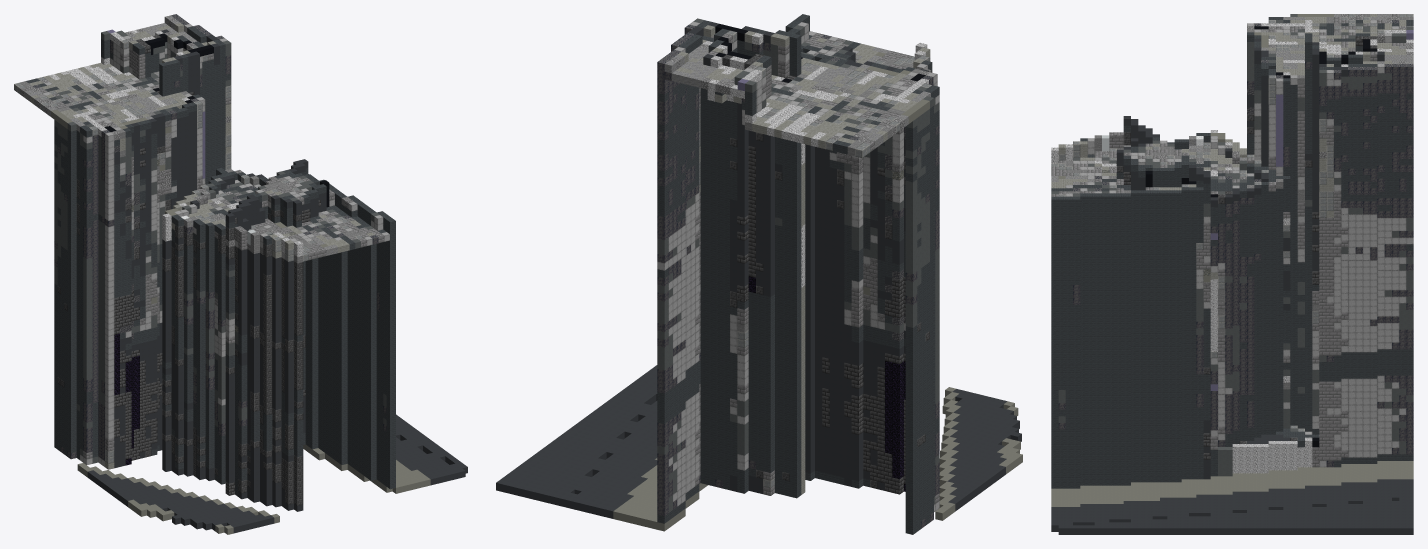
File: tile_0_0.glb
3 views of the same model, side by side, from view 1: azimuth 30°, elevation 25°; view 2: azimuth 150°, elevation 25°; view 3: azimuth 270°, elevation 25° (orthographic). The views are drawn at different scales.
Visible parts, largest first — view 1: minecraft:gray_wool:west, minecraft:gray_wool:south, minecraft:gray_concrete:south, minecraft:gray_concrete:west, minecraft:gray_concrete:up, minecraft:polished_deepslate:south, minecraft:polished_deepslate:west, minecraft:cyan_terracotta:west, minecraft:smooth_stone:south, minecraft:cyan_terracotta:south, minecraft:deepslate_bricks:south, minecraft:basalt:south (+20 smaller); view 2: minecraft:gray_wool:north, minecraft:gray_concrete:north, minecraft:gray_concrete:up, minecraft:gray_wool:west, minecraft:smooth_stone:west, minecraft:deepslate_bricks:north, minecraft:cyan_terracotta:west, minecraft:basalt:west, minecraft:gray_concrete:west, minecraft:cyan_terracotta:north, minecraft:light_gray_wool:up, minecraft:light_gray_concrete:up (+22 smaller); view 3: minecraft:gray_wool:east, minecraft:smooth_stone:east, minecraft:basalt:east, minecraft:gray_concrete:up, minecraft:gray_concrete:east, minecraft:stone_bricks:east, minecraft:light_gray_concrete:up, minecraft:cyan_terracotta:east, minecraft:gray_wool:up, minecraft:light_gray_wool:up, minecraft:diorite:east, minecraft:stone_bricks:up (+15 smaller).
Boxes of the visible parts, x1,y1,x2,y2 form: minecraft:gray_wool:west: (54,28,389,496); minecraft:gray_wool:south: (71,36,395,489); minecraft:gray_concrete:south: (114,46,467,533); minecraft:gray_concrete:west: (87,36,454,530); minecraft:gray_concrete:up: (88,29,467,527); minecraft:polished_deepslate:south: (125,146,305,505); minecraft:polished_deepslate:west: (57,179,297,505); minecraft:cyan_terracotta:west: (54,32,386,456); minecraft:smooth_stone:south: (86,48,389,464); minecraft:cyan_terracotta:south: (71,33,360,463); minecraft:deepslate_bricks:south: (114,46,320,495); minecraft:basalt:south: (71,55,378,459); minecraft:gray_wool:north: (657,26,912,534); minecraft:gray_concrete:north: (496,34,1017,518); minecraft:gray_concrete:up: (496,22,1021,511); minecraft:gray_wool:west: (664,16,939,534); minecraft:smooth_stone:west: (664,24,939,511); minecraft:deepslate_bricks:north: (737,146,905,494); minecraft:cyan_terracotta:west: (664,27,939,512); minecraft:basalt:west: (664,42,939,528); minecraft:gray_concrete:west: (571,28,1021,511); minecraft:cyan_terracotta:north: (657,42,912,455); minecraft:light_gray_wool:up: (676,25,929,143); minecraft:light_gray_concrete:up: (613,52,1022,521); minecraft:gray_wool:east: (1051,35,1413,488); minecraft:smooth_stone:east: (1087,36,1413,467); minecraft:basalt:east: (1058,62,1413,467); minecraft:gray_concrete:up: (1051,38,1413,528); minecraft:gray_concrete:east: (1051,50,1413,534); minecraft:stone_bricks:east: (1109,54,1377,467); minecraft:light_gray_concrete:up: (1051,14,1413,506); minecraft:cyan_terracotta:east: (1058,36,1413,476); minecraft:gray_wool:up: (1051,17,1413,440); minecraft:light_gray_wool:up: (1051,14,1406,190); minecraft:diorite:east: (1051,145,1312,473); minecraft:stone_bricks:up: (1051,14,1406,196).
Size of the model in its own units: 50 by 61 by 50.
135 materials, 135 textured.
